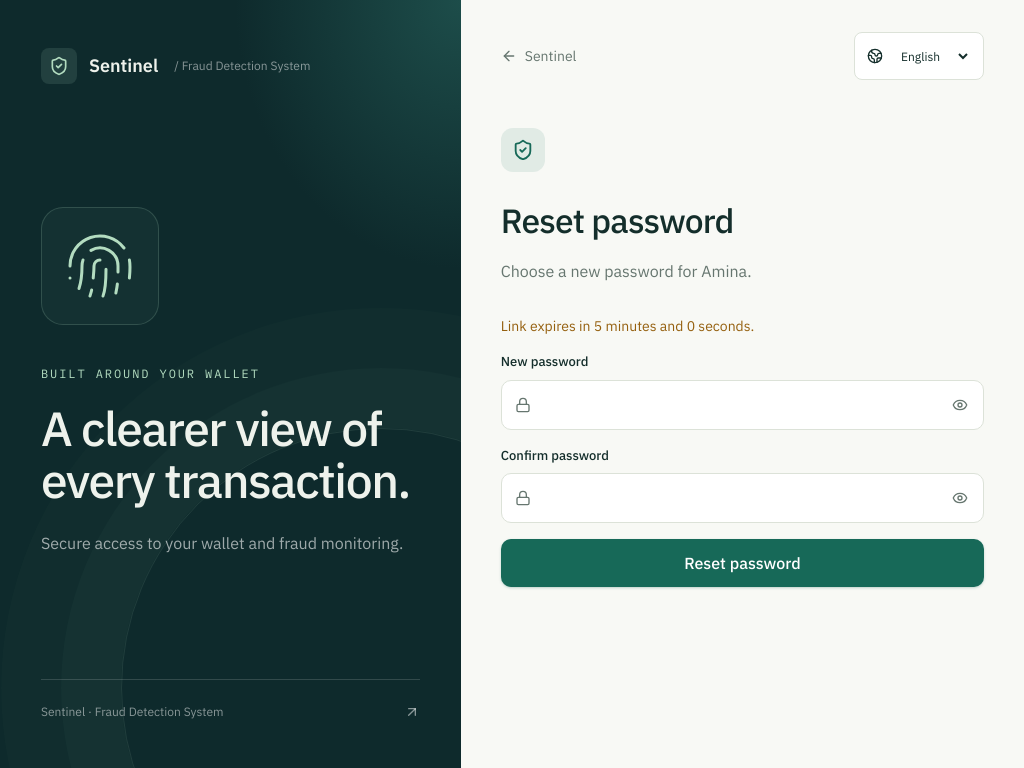
Test: Recovery › submits the route token and clears the form on success
Type "secret123" into the password field labelled "New password". click: (742, 405)
box: [501, 380, 984, 430]
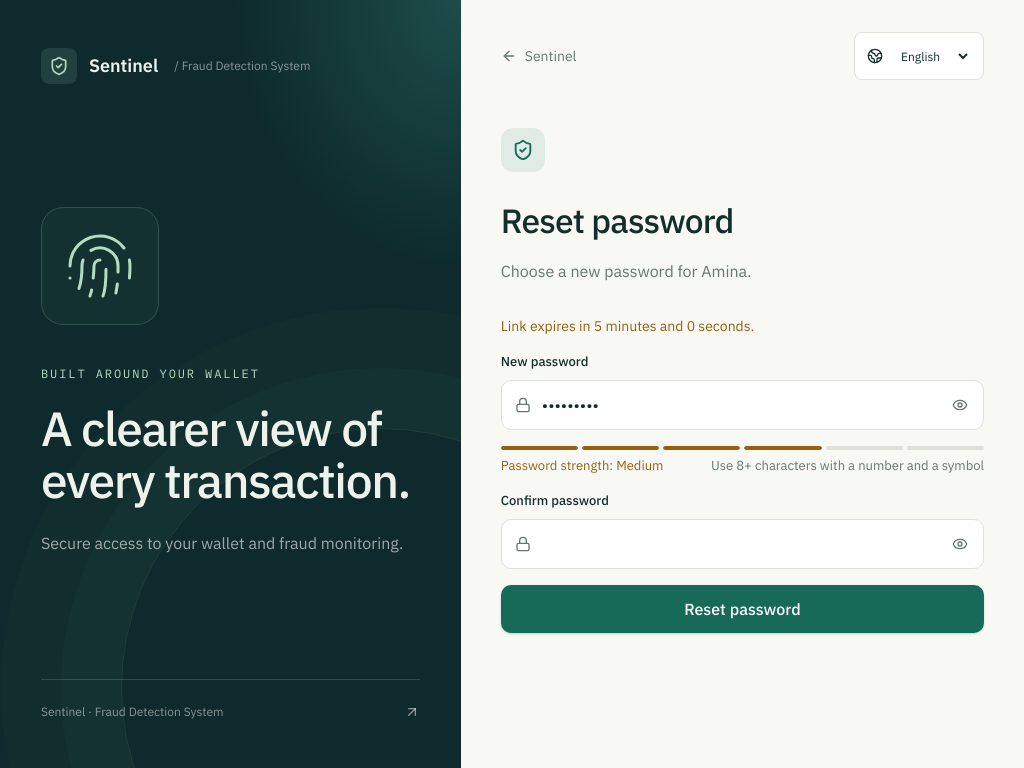
Type "secret123" into the password field labelled "Confirm password". click: (742, 544)
box: [501, 519, 984, 569]
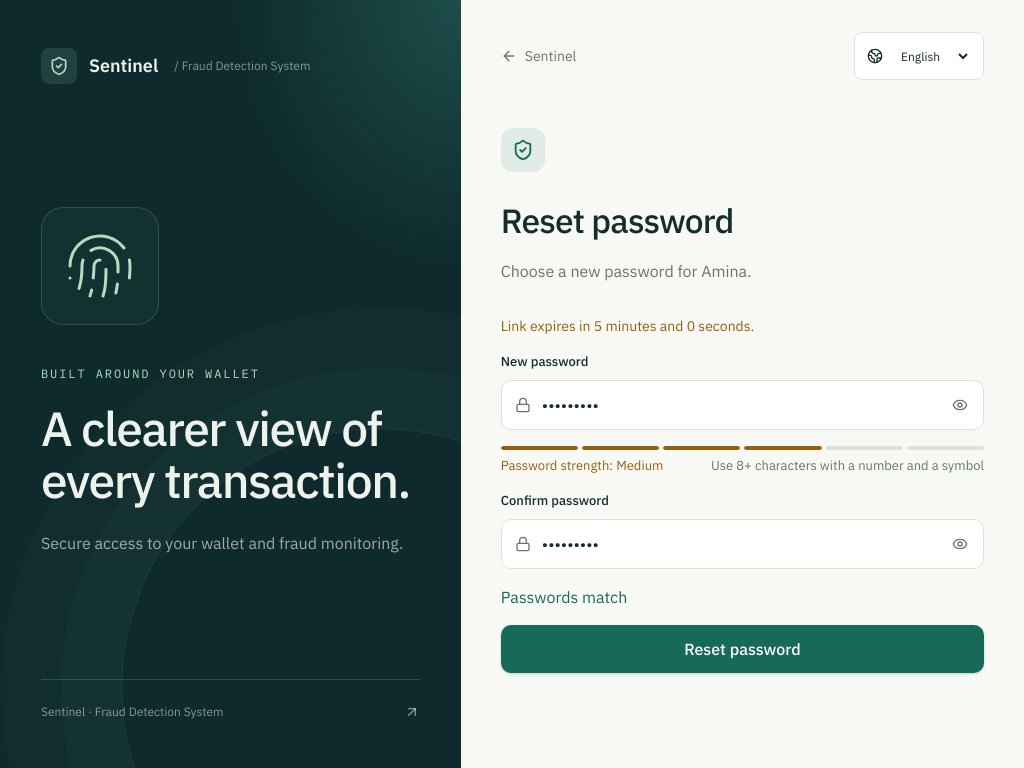
Click the button "Reset password". click: (742, 649)
box: [501, 625, 984, 673]
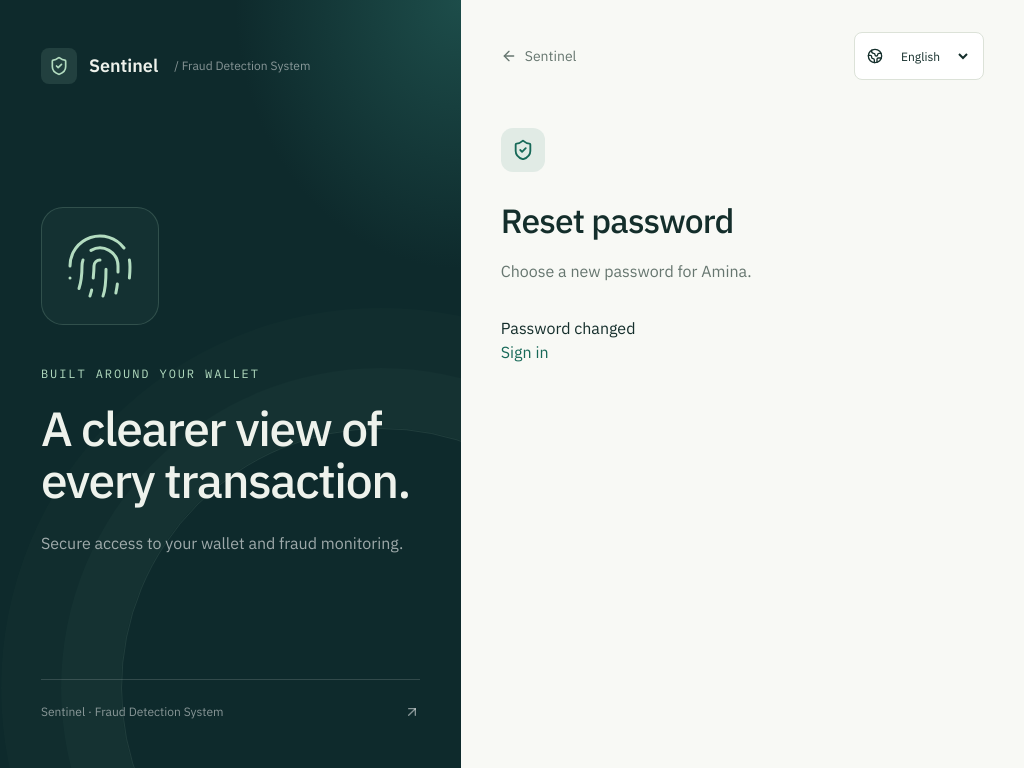
Result: the text "Password changed" is shown at [501, 318, 635, 338]
